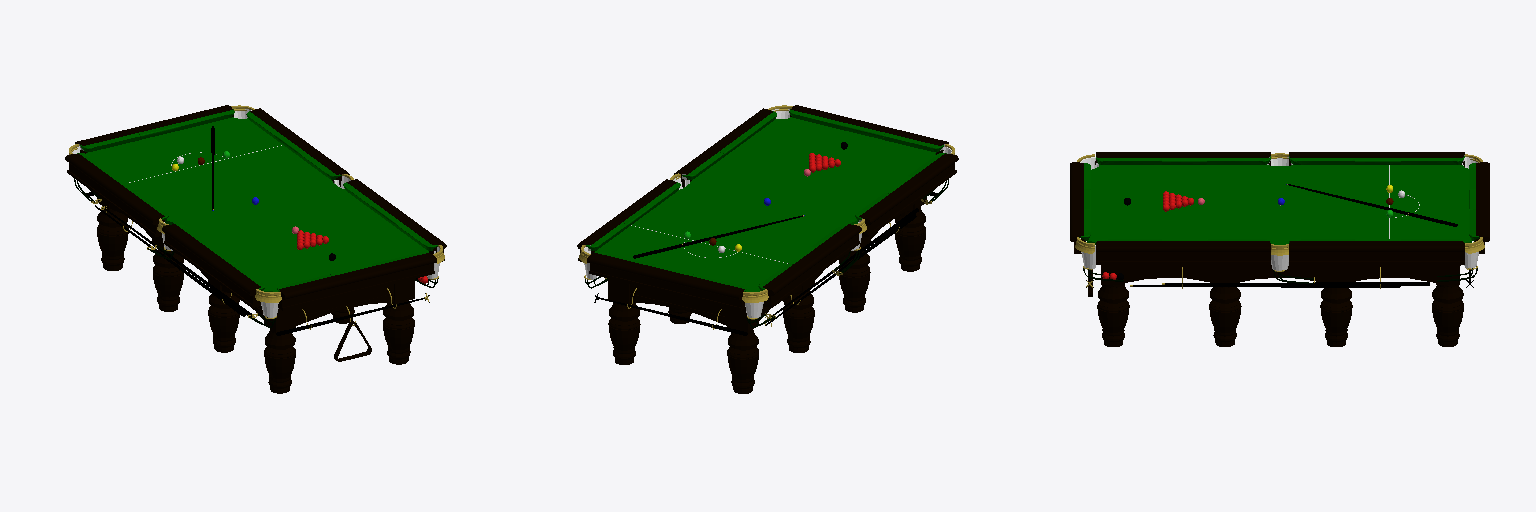
The model's file is table.obj.
3 views of the same model, side by side, from view 1: azimuth 30°, elevation 25°; view 2: azimuth 150°, elevation 25°; view 3: azimuth 270°, elevation 25° (orthographic).
Parts seen in each view (by area): view 1: Table, noga, noga07, noga03, noga02, noga01, Object04, Object02; view 2: Table, noga03, noga04, noga02, noga, noga01, Object04, Object02; view 3: Table, noga04, noga06, noga05, noga07, Object02, Object04, spider_L.
Boxes of the visible parts, x1=… form: Table: x1=65, y1=105, x2=446, y2=325; noga: x1=264, y1=308, x2=295, y2=393; noga07: x1=383, y1=279, x2=414, y2=364; noga03: x1=97, y1=195, x2=128, y2=270; noga02: x1=152, y1=235, x2=184, y2=311; noga01: x1=208, y1=276, x2=239, y2=352; Object04: x1=69, y1=105, x2=444, y2=302; Object02: x1=72, y1=109, x2=439, y2=317; Table: x1=577, y1=105, x2=958, y2=325; noga03: x1=727, y1=308, x2=758, y2=393; noga04: x1=608, y1=279, x2=640, y2=364; noga02: x1=783, y1=277, x2=814, y2=352; noga: x1=895, y1=197, x2=926, y2=271; noga01: x1=839, y1=236, x2=870, y2=312; Object04: x1=579, y1=105, x2=954, y2=302; Object02: x1=584, y1=109, x2=951, y2=317; Table: x1=1070, y1=152, x2=1489, y2=282; noga04: x1=1432, y1=265, x2=1463, y2=346; noga06: x1=1209, y1=265, x2=1241, y2=346; noga05: x1=1320, y1=265, x2=1352, y2=346; noga07: x1=1097, y1=265, x2=1129, y2=346; Object02: x1=1080, y1=157, x2=1478, y2=270; Object04: x1=1075, y1=153, x2=1484, y2=255; spider_L: x1=1130, y1=284, x2=1400, y2=287.
Bounding box in the file's own units: 1.62 × 0.9178 × 3.